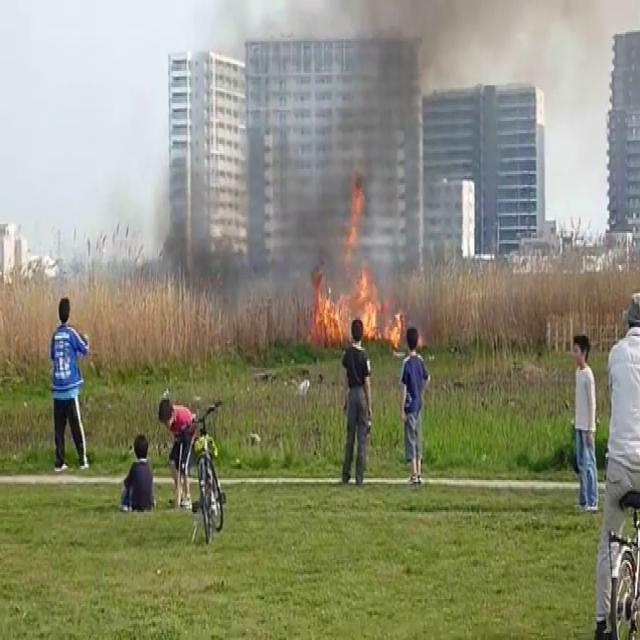Fire: (310, 218, 404, 348)
Smoke: (171, 0, 501, 321)
